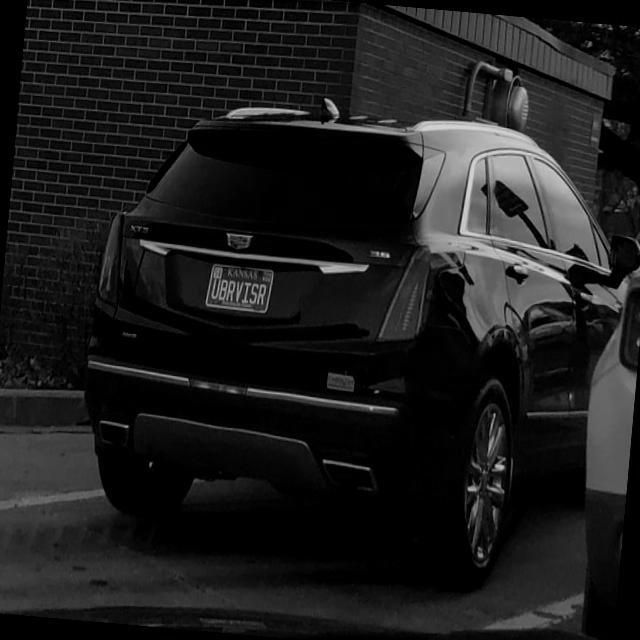LicensePlate: (203, 261, 273, 313)
